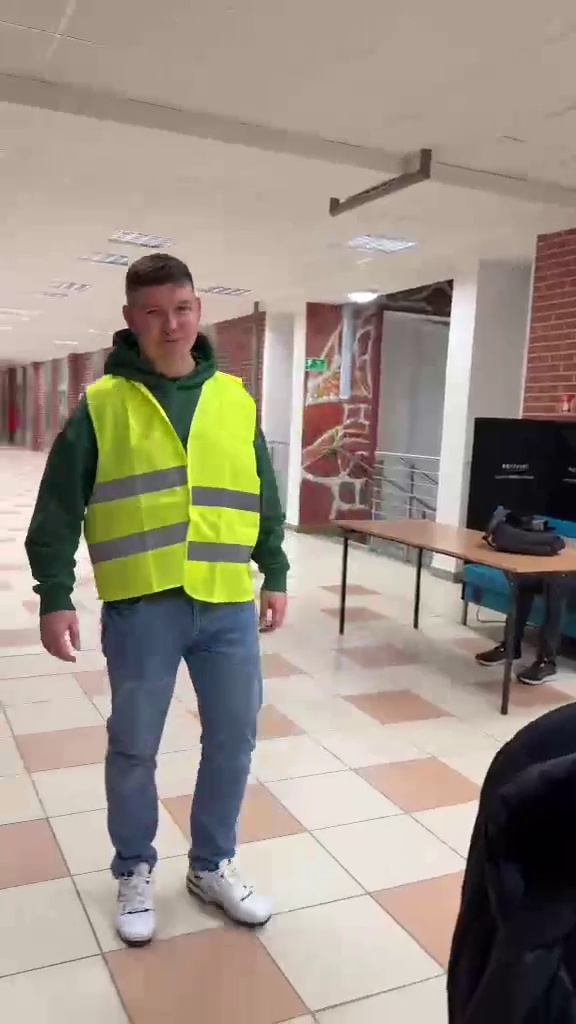vest: (27, 247, 283, 944)
